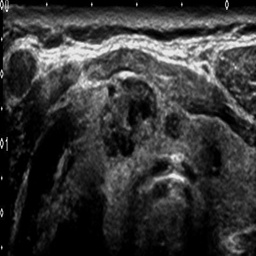mass: (99, 71, 154, 161)
